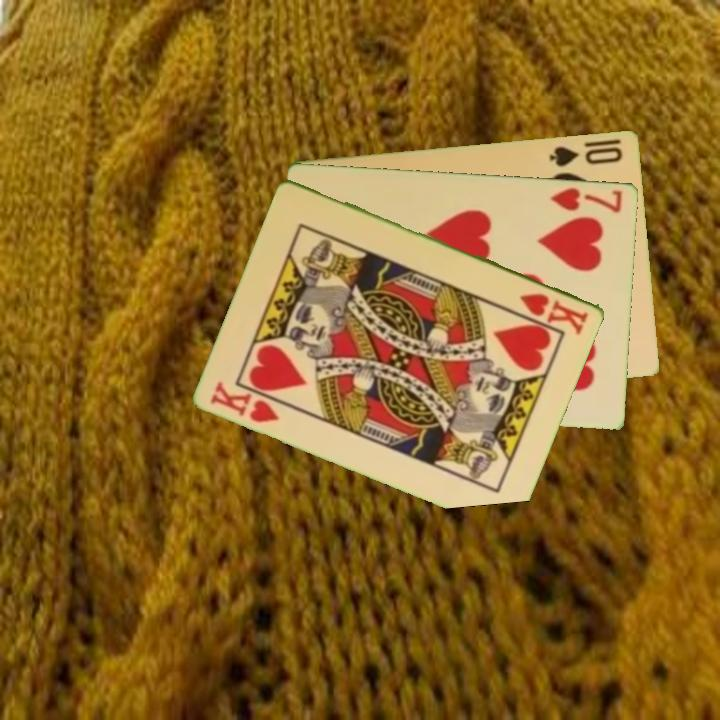10s: (546, 142, 626, 169)
7h: (547, 184, 625, 215)
Kh: (207, 377, 283, 426), (517, 289, 592, 337)
